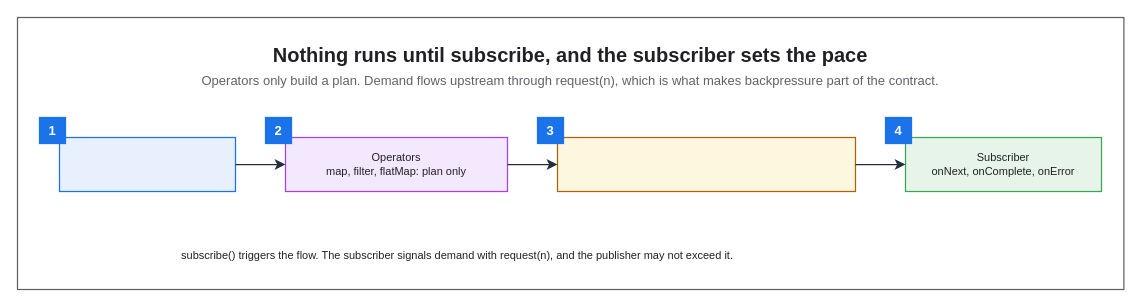
The diagram is 1142 pixels wide and 308 high, and some of its shapes have lost their labels. Here are the shapes that lost their labels. From the top down, the box of each, then its label:
(58, 136, 236, 192): Publisher Mono 0..1 or Flux 0..N
(556, 136, 856, 192): Subscription the contract carrying request(n) and cancel
